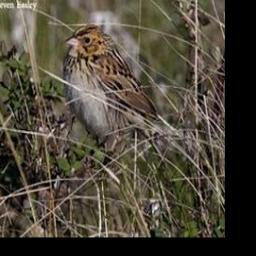Sparrow: (59, 23, 201, 163)
